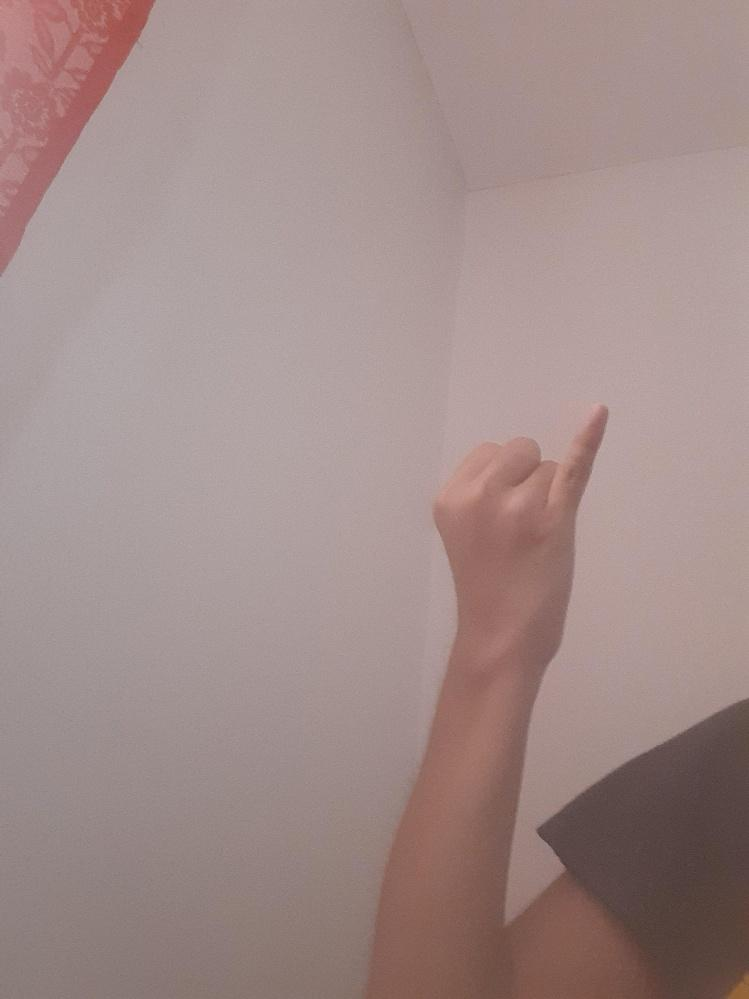j: (430, 402, 610, 641)
